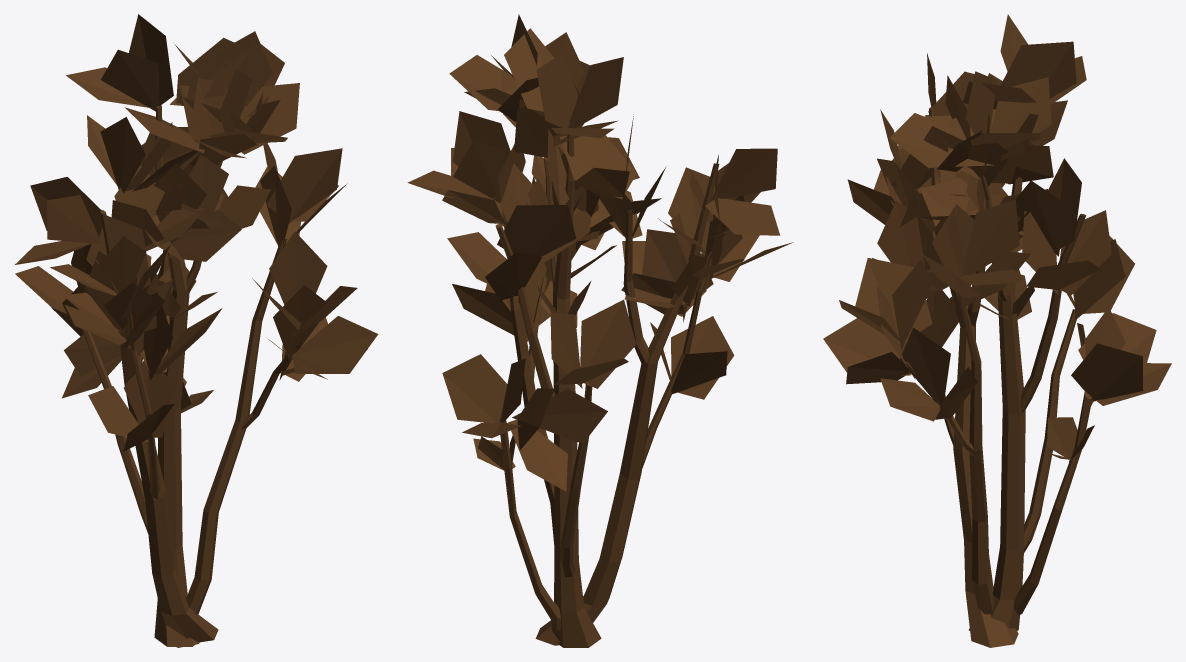
Rendered from SM_Bush_Magnolia_Flowering_Mature_A.fbx.
3 renders of one model, left to right at view 1: azimuth 30°, elevation 25°; view 2: azimuth 150°, elevation 25°; view 3: azimuth 270°, elevation 25°, orthographic.
Parts seen in each view (by area): view 1: bush-magnolia-flowering-mature-a; view 2: bush-magnolia-flowering-mature-a; view 3: bush-magnolia-flowering-mature-a.
Part boxes in pixels (x1,y1,x2,y2): bush-magnolia-flowering-mature-a: [15, 14, 378, 647]; bush-magnolia-flowering-mature-a: [407, 14, 793, 647]; bush-magnolia-flowering-mature-a: [823, 14, 1171, 647].
Size of the model in its own units: 1.18 by 2.01 by 1.07.
